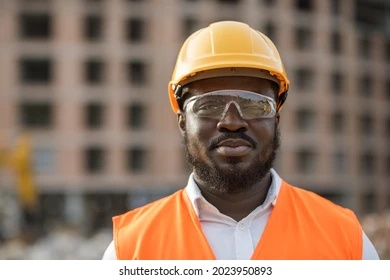safety_goggles: (159, 91, 302, 125)
